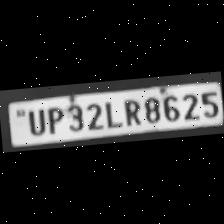2: (178, 90, 202, 122), (82, 100, 104, 131)
3: (62, 102, 85, 134)
5: (196, 88, 220, 120)
6: (159, 91, 181, 123)
8: (140, 92, 162, 124)
L: (101, 97, 121, 128)
P: (42, 103, 65, 135)
R: (120, 96, 142, 127)
U: (23, 106, 46, 138)
